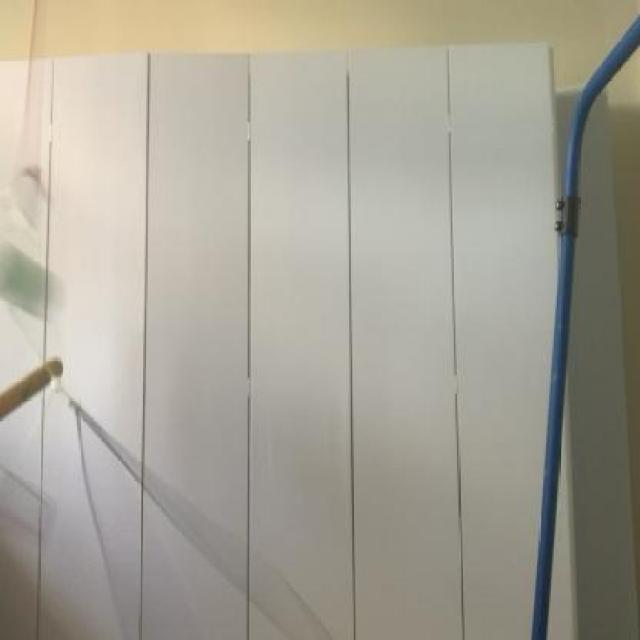baseball: (0, 243, 62, 331)
